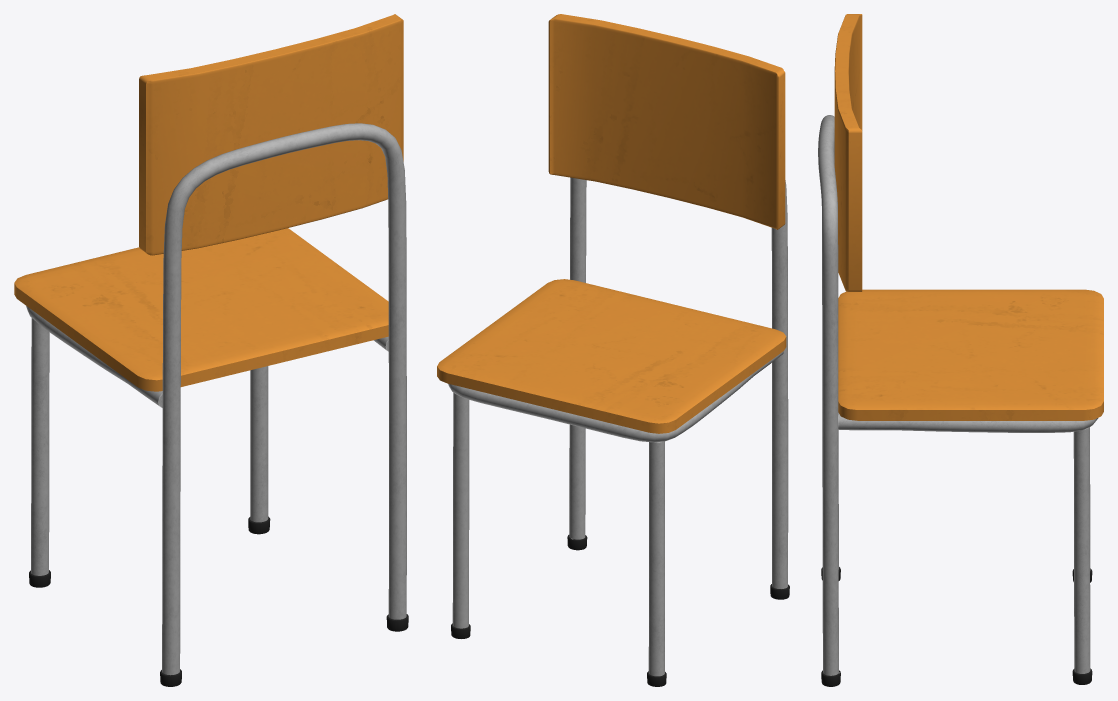
The model's file is ClassRoomChair.fbx.
3 renders of one model, left to right at view 1: azimuth 30°, elevation 25°; view 2: azimuth 150°, elevation 25°; view 3: azimuth 270°, elevation 25°, orthographic. The views are drawn at different scales.
Visible parts, largest first — view 1: ClassRoom_Chair; view 2: ClassRoom_Chair; view 3: ClassRoom_Chair.
Part boxes in pixels (box(x1,y1,x2,y2)): ClassRoom_Chair: box(14, 14, 408, 686); ClassRoom_Chair: box(437, 14, 789, 686); ClassRoom_Chair: box(818, 14, 1103, 686).
Bounding box in the file's own units: 99.5 × 216 × 99.69.
